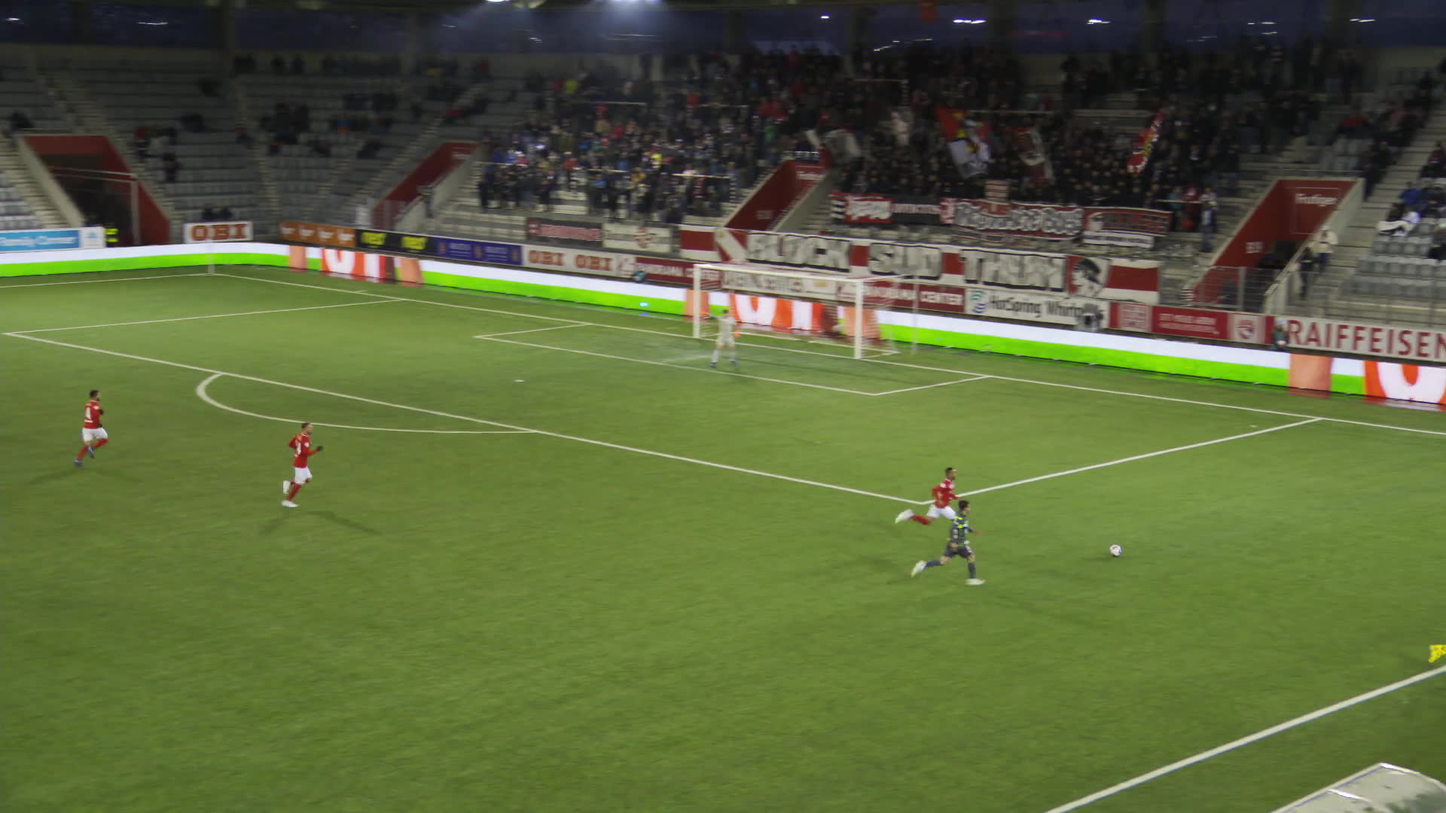ball: (1108, 542, 1123, 556)
player: (908, 498, 986, 589), (891, 465, 962, 547), (276, 422, 328, 507), (72, 388, 111, 467), (705, 307, 746, 367)
